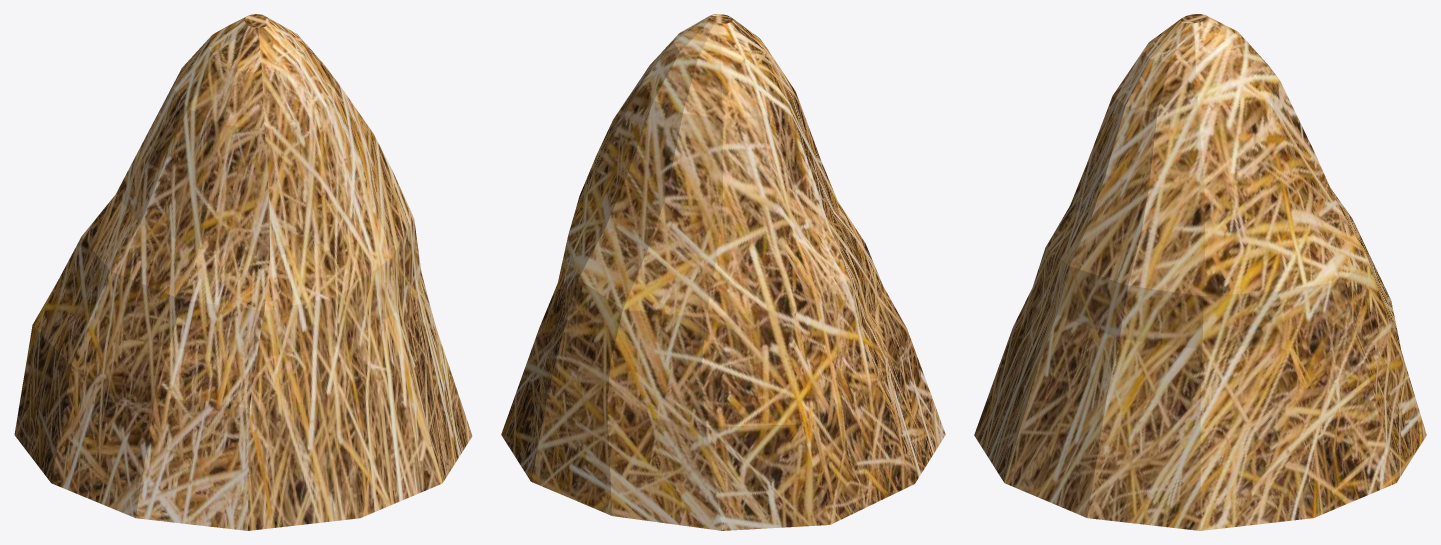
Rendered from Stog.fbx.
3 renders of one model, left to right at view 1: azimuth 30°, elevation 25°; view 2: azimuth 150°, elevation 25°; view 3: azimuth 270°, elevation 25°, orthographic.
Visible parts, largest first — view 1: Circle; view 2: Circle; view 3: Circle.
Boxes of the visible parts, x1,y1,x2,y2 form: Circle: (14,14,472,530); Circle: (501,14,945,530); Circle: (974,14,1426,530).
Bounding box in the file's own units: 949 × 980 × 948.
1 material, 1 textured.
